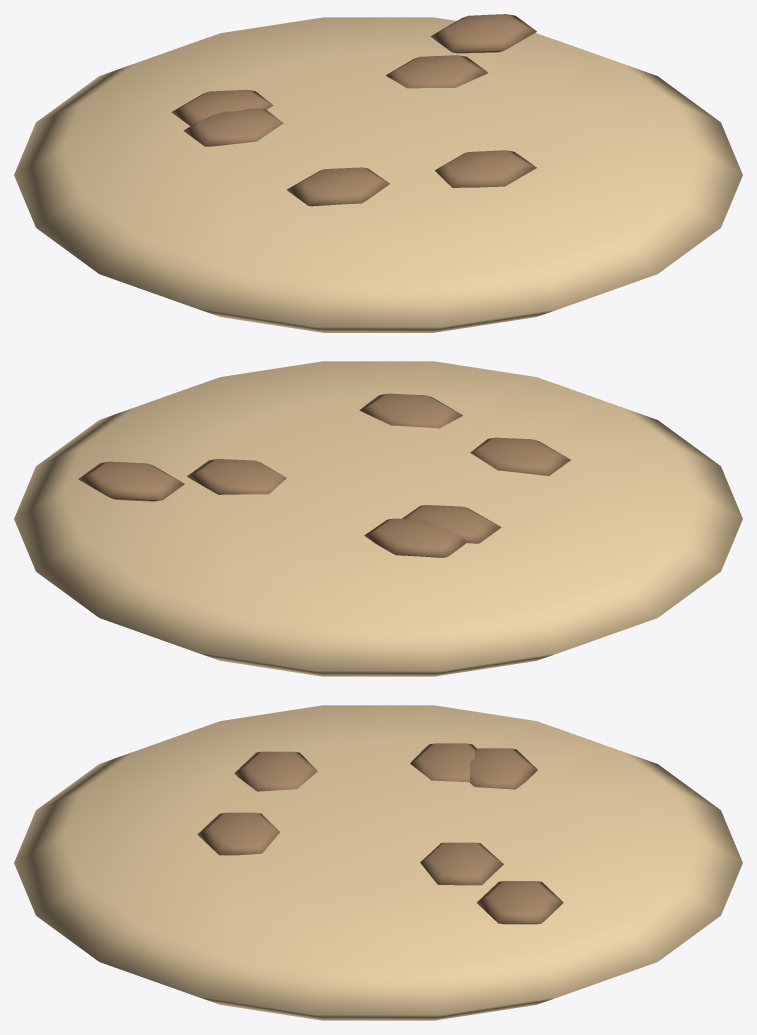
File: SM_Item_flatbread.gltf
3 renders of one model, top to bottom at view 1: azimuth 30°, elevation 25°; view 2: azimuth 150°, elevation 25°; view 3: azimuth 270°, elevation 25°, orthographic.
Visible parts, largest first — view 1: SM_Item_flatbread; view 2: SM_Item_flatbread; view 3: SM_Item_flatbread.
Part boxes in pixels (box(x1,y1,x2,y2)): SM_Item_flatbread: box(14, 14, 742, 332); SM_Item_flatbread: box(14, 361, 742, 676); SM_Item_flatbread: box(14, 705, 742, 1020).
Bounding box in the file's own units: 0.197 × 0.033 × 0.2.
